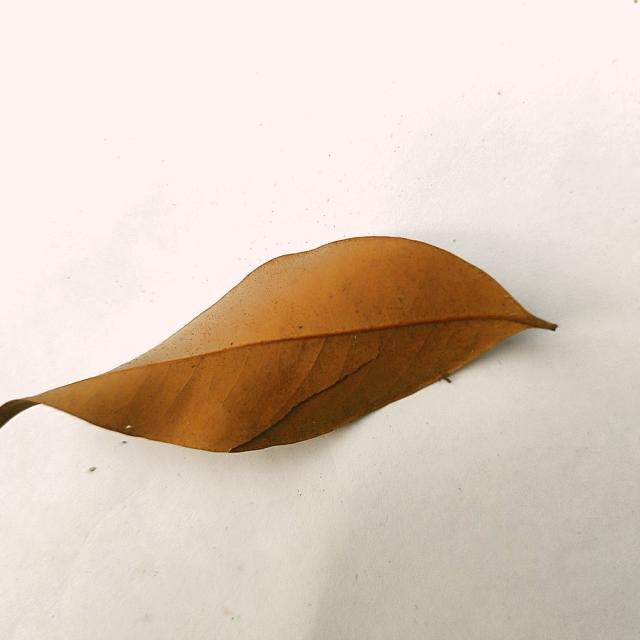Dry_Leaf-Lychee: (0, 237, 556, 456)
